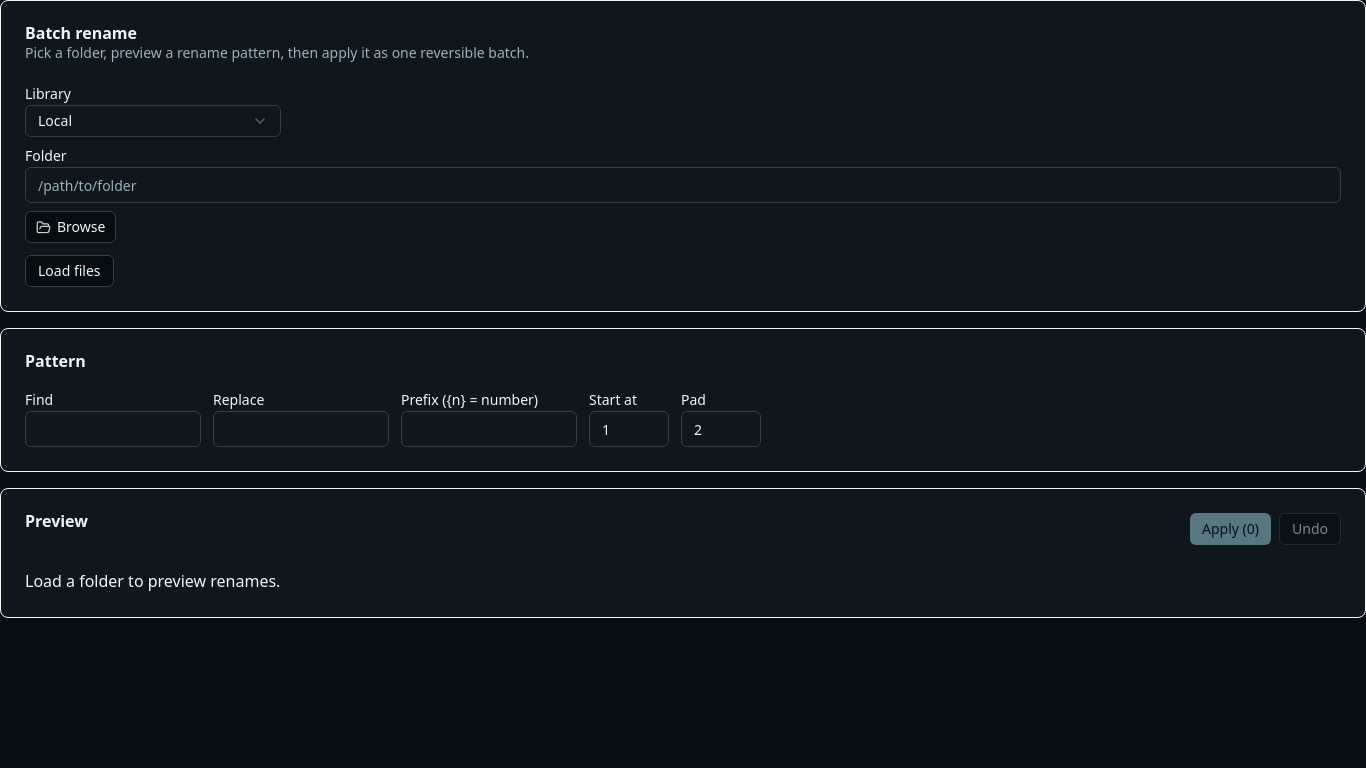
RenamePage › previews a find/replace pattern over the loaded files
The image size is (1366, 768).
Expected: the text "Batch rename" is shown, [25,22,137,44]
Type "/srv/Movies" into the field labelled "Folder".
click(683, 185); type("/srv/Movies")  # box [25,167,1341,203]
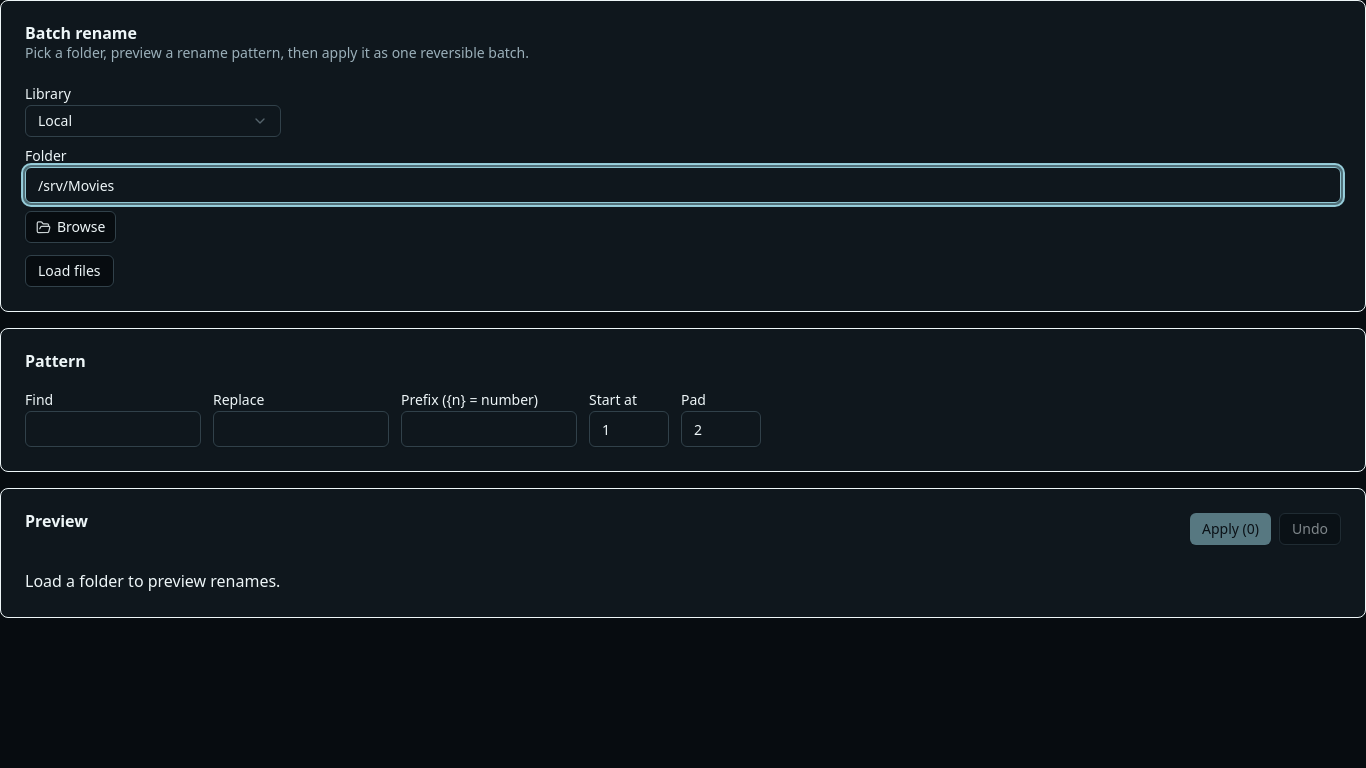
Click the button "Load files".
click(69, 271)  # box [25,255,114,287]
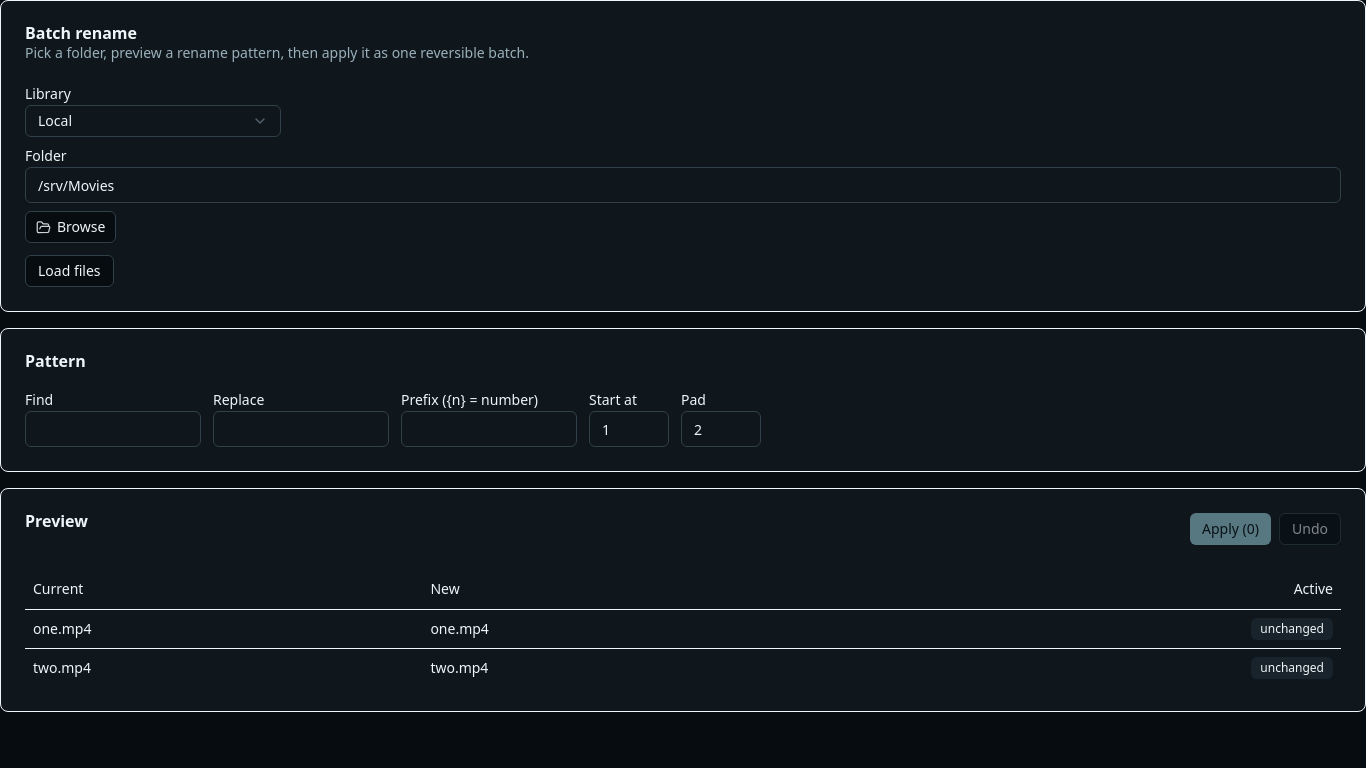
Type "one" into the field named "Find".
click(113, 429); type("one")  # box [25,411,201,447]
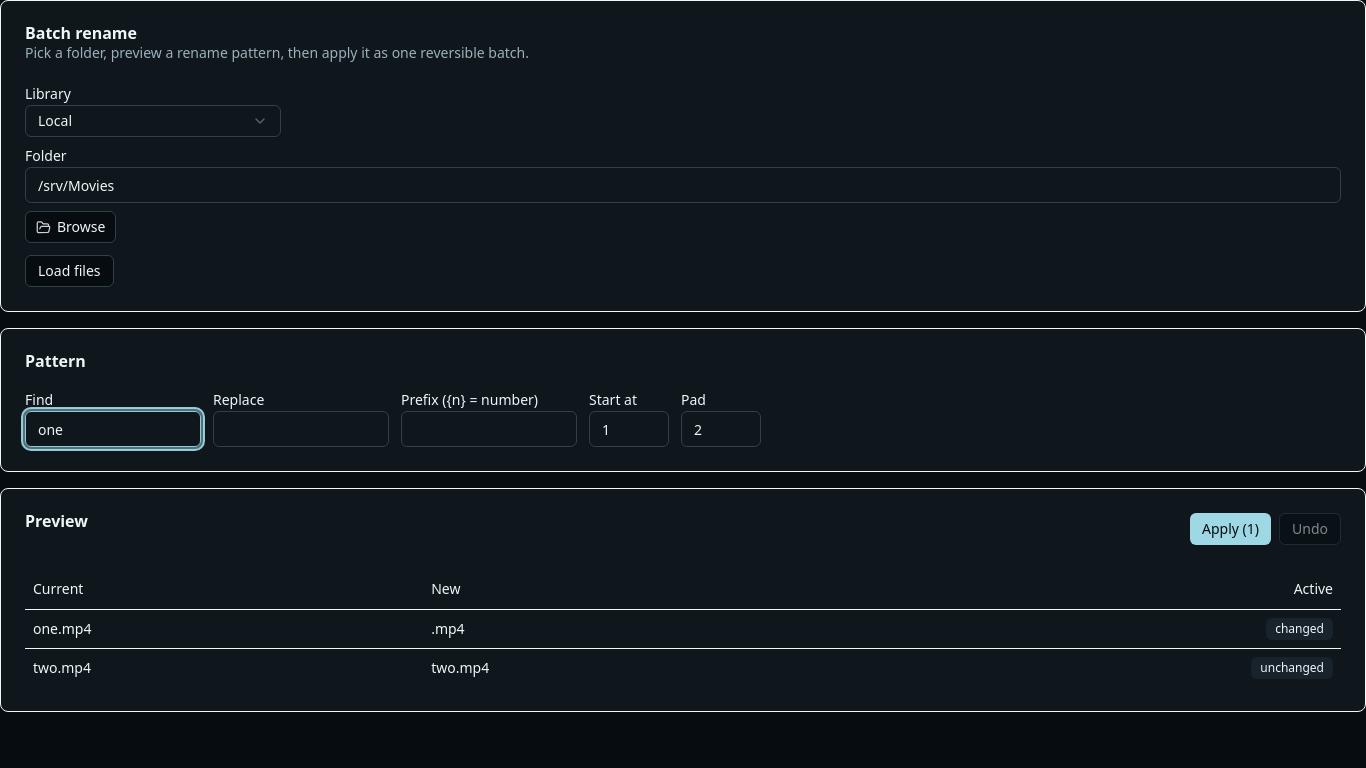
Type "uno" into the field named "Replace".
click(301, 429); type("uno")  # box [213,411,389,447]
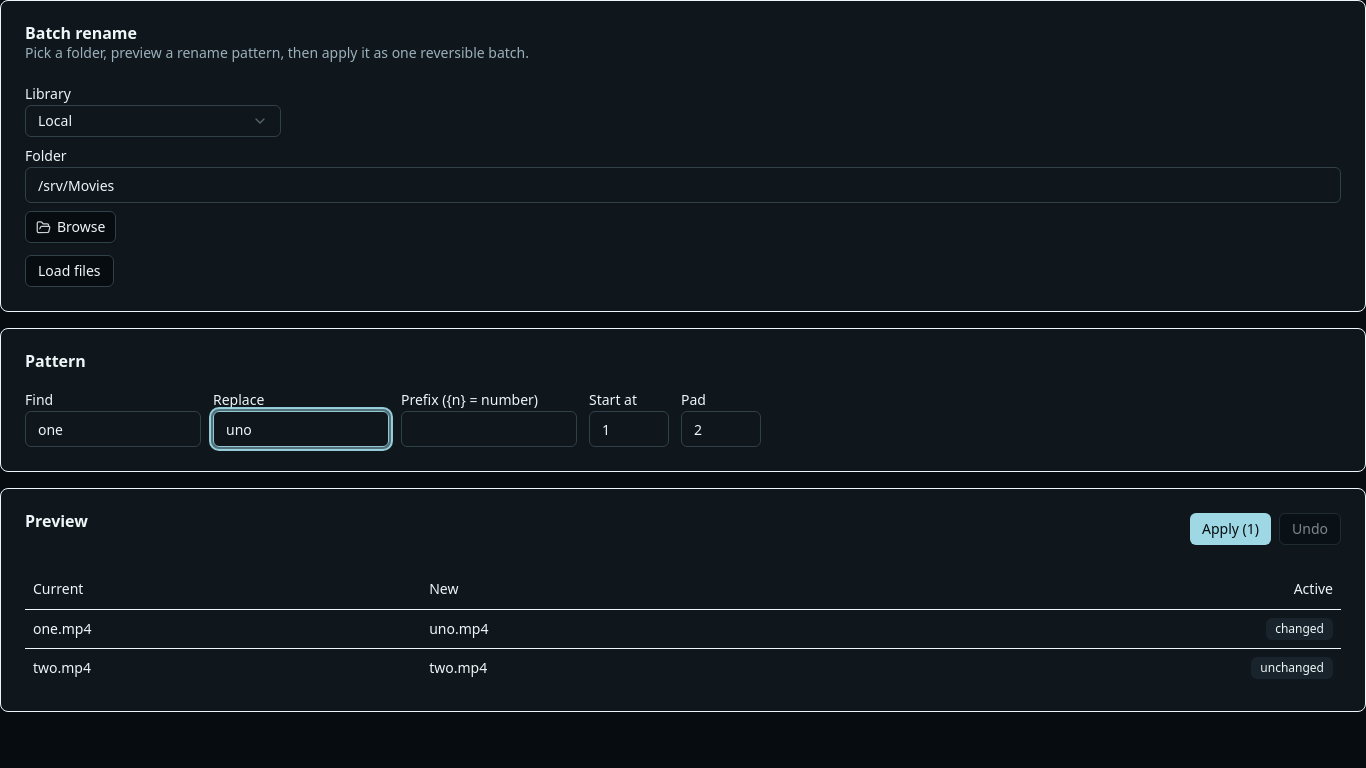
Expected: the button "Apply (1)" is enabled, [1190,513,1271,545]
Expected: the text "uno.mp4" is shown, [421,609,821,648]
